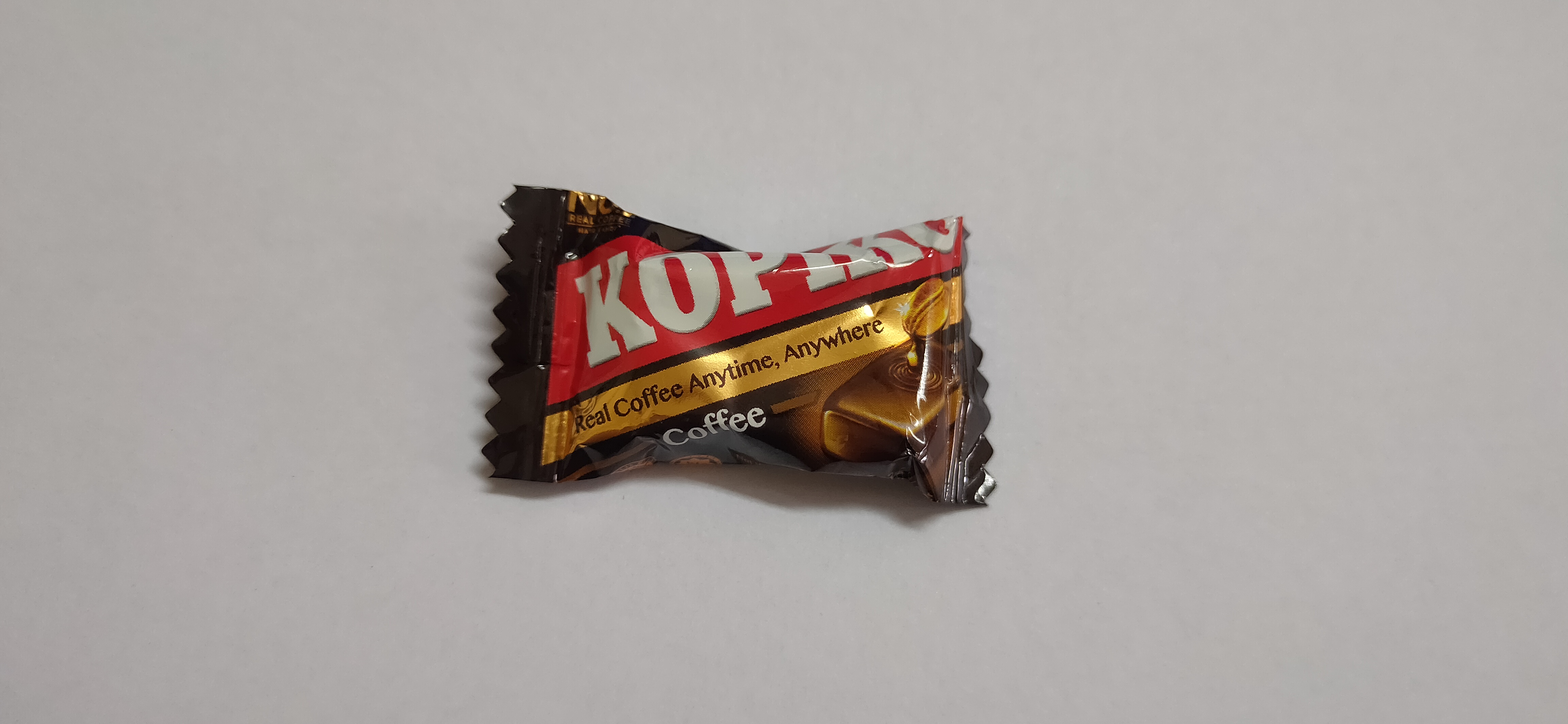plastic: (474, 154, 1019, 530)
